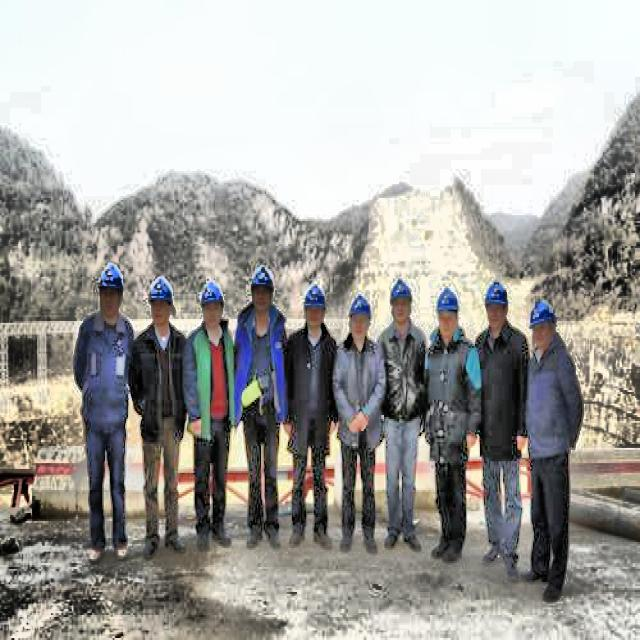helmet: (96, 259, 127, 319), (146, 271, 177, 329), (529, 294, 558, 354), (302, 277, 330, 334), (482, 279, 510, 336), (386, 275, 414, 330), (197, 278, 225, 330), (248, 262, 276, 314), (346, 286, 371, 342), (435, 284, 462, 334)
